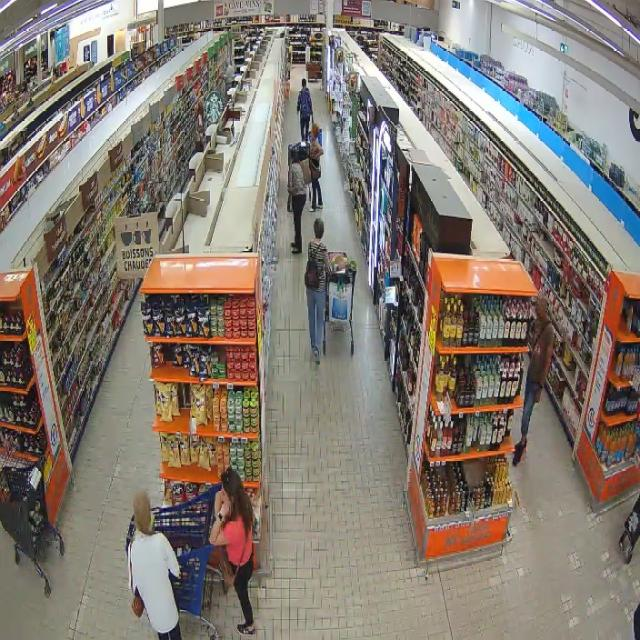bags: (130, 548, 144, 617), (219, 546, 239, 588), (305, 244, 319, 288), (300, 158, 311, 184), (310, 159, 320, 180)
hands: (219, 501, 229, 518), (215, 492, 222, 513), (535, 387, 541, 403)
person: (210, 468, 255, 635), (129, 492, 180, 639), (513, 298, 554, 465), (307, 218, 330, 364), (289, 153, 307, 254), (310, 124, 323, 211), (298, 79, 312, 140)
